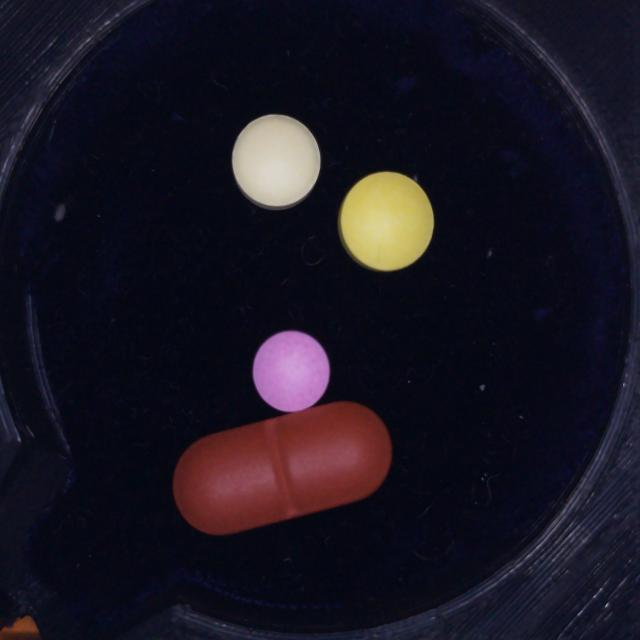Pill: (173, 402, 392, 535), (338, 172, 434, 272), (232, 114, 321, 209), (252, 331, 330, 412)
